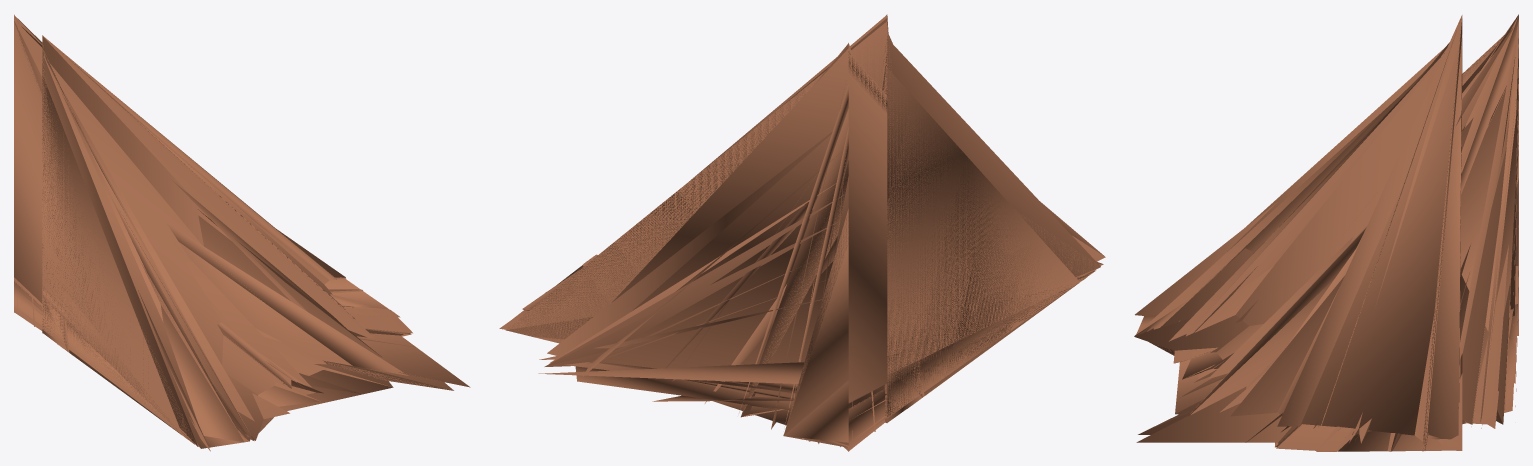
The model's file is plant_1.fbx.
The picture shows the model from 3 angles, left to right: view 1: azimuth 30°, elevation 25°; view 2: azimuth 150°, elevation 25°; view 3: azimuth 270°, elevation 25°; orthographic projection. The views are drawn at different scales.
Parts seen in each view (by area): view 1: pCylinder15, cacts; view 2: cacts, pCylinder15; view 3: pCylinder15, cacts.
Part boxes in pixels (bbox=[...]): pCylinder15: bbox=[42, 35, 470, 451]; cacts: bbox=[14, 14, 381, 394]; cacts: bbox=[538, 43, 887, 451]; pCylinder15: bbox=[499, 14, 1105, 422]; pCylinder15: bbox=[1134, 15, 1462, 451]; cacts: bbox=[1208, 14, 1518, 428].
Bounding box in the file's own units: 3e+08 × 3e+08 × 3.5e+08.
